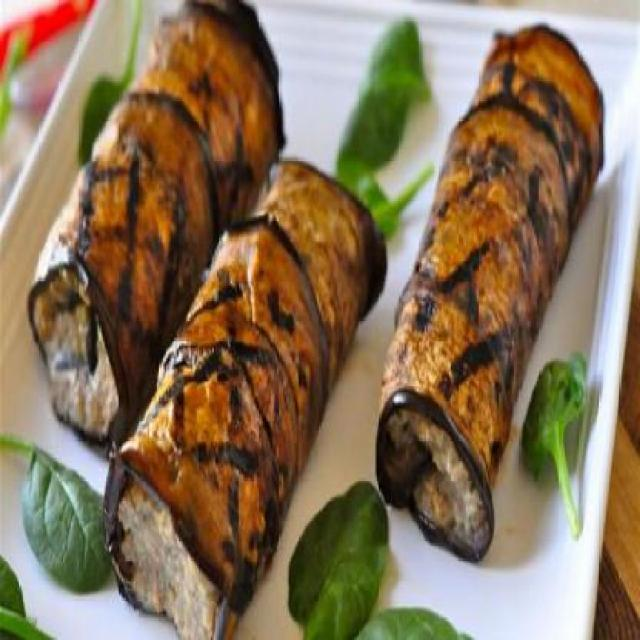eggplant: (25, 2, 617, 638)
hummus: (111, 478, 231, 632), (378, 397, 487, 540), (37, 263, 120, 432)
